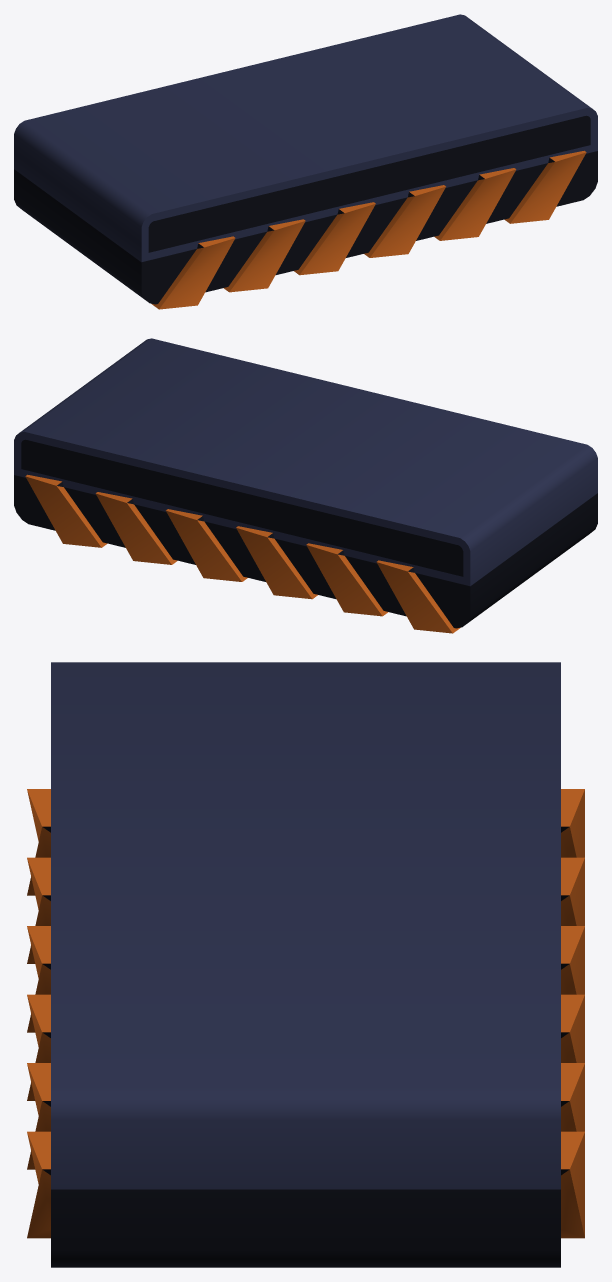
The model's file is Fly_platform.FBX.
3 renders of one model, top to bottom at view 1: azimuth 30°, elevation 25°; view 2: azimuth 150°, elevation 25°; view 3: azimuth 270°, elevation 25°, orthographic. The views are drawn at different scales.
Visible parts, largest first — view 1: Fly_platfom; view 2: Fly_platfom; view 3: Fly_platfom.
Part boxes in pixels (box(x1,y1,x2,y2)): Fly_platfom: box(14, 14, 597, 309); Fly_platfom: box(14, 338, 597, 633); Fly_platfom: box(27, 662, 584, 1267).
Size of the model in its own units: 59.49 by 12.06 by 31.5.
